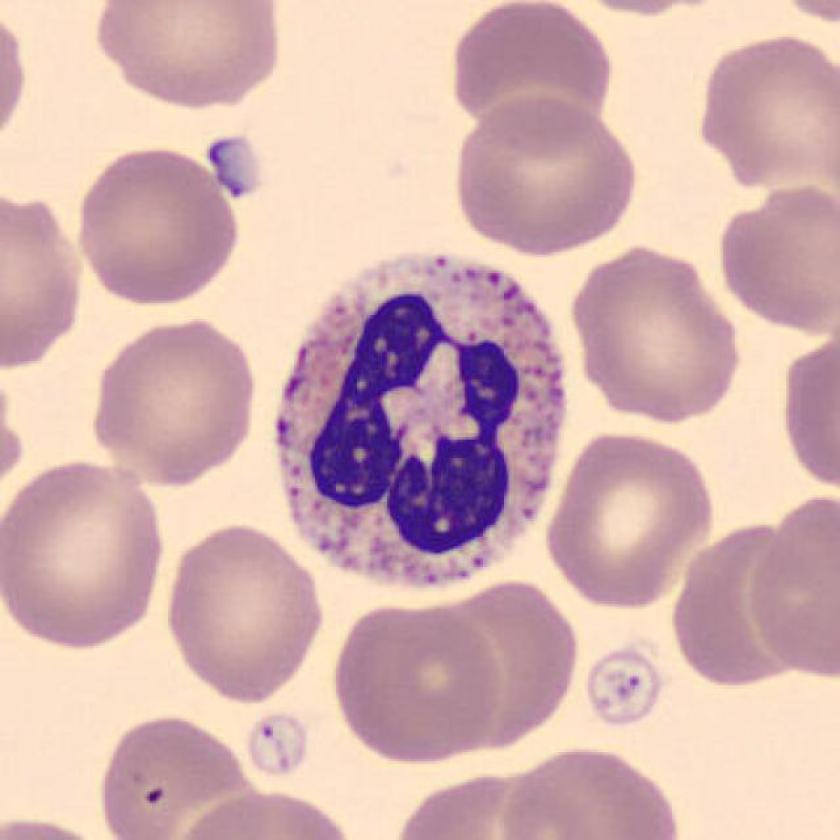neutrophil: (273, 256, 564, 585)
